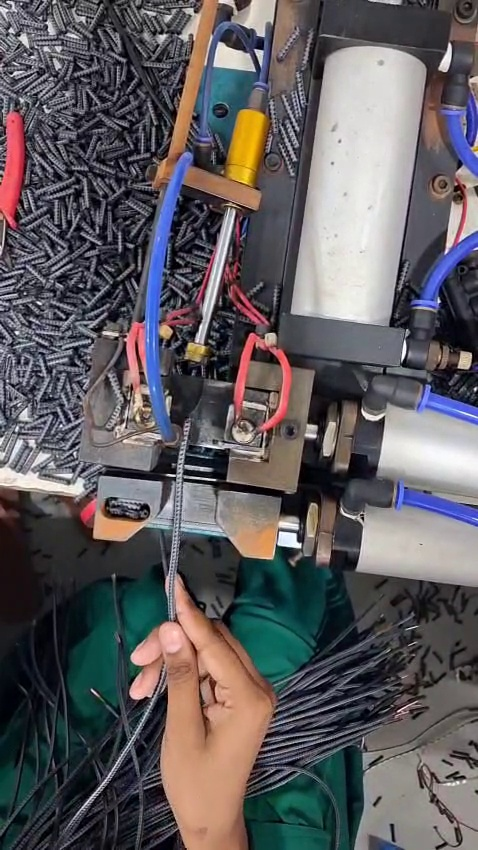intact_wire: (163, 411, 214, 493)
machine: (74, 312, 326, 530)
